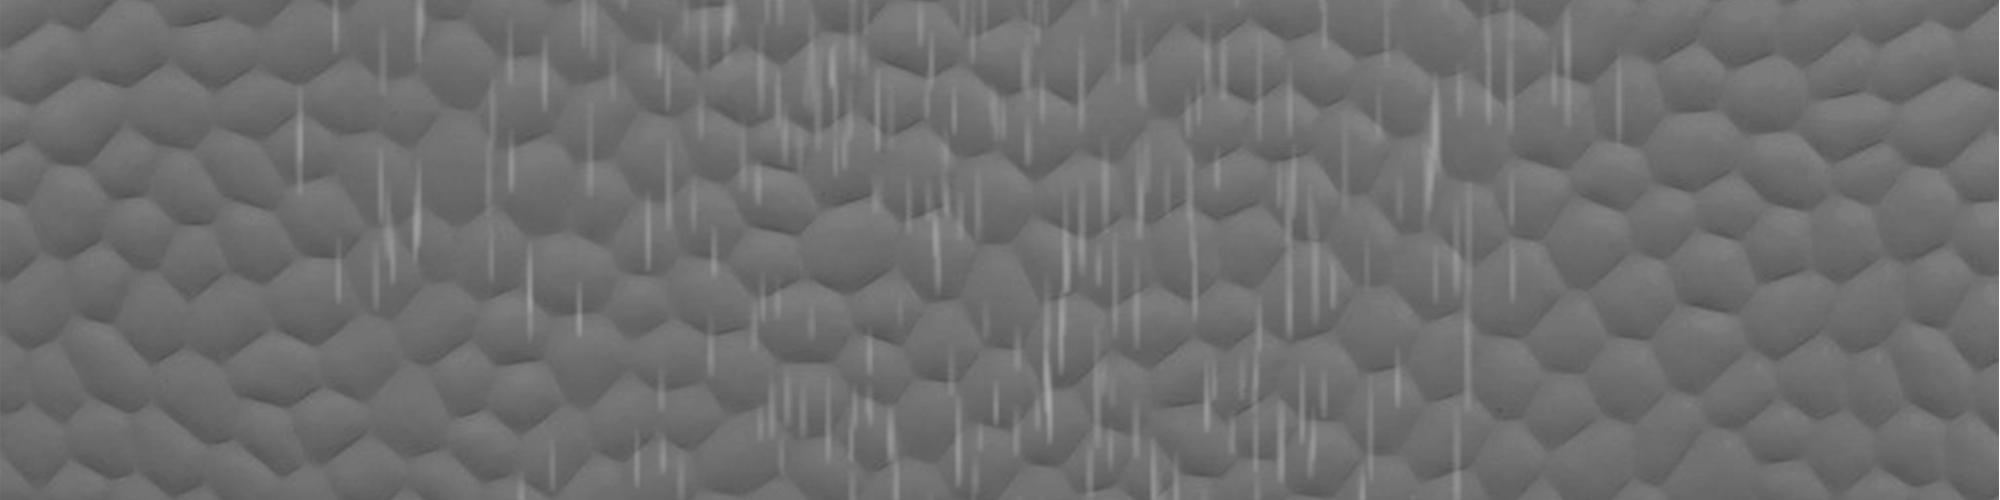Streaks: (1435, 203, 1483, 496), (925, 131, 983, 300), (1180, 148, 1230, 323), (1418, 56, 1469, 224), (843, 378, 911, 499), (742, 367, 814, 480), (1276, 364, 1334, 495), (1179, 13, 1232, 143), (1089, 131, 1122, 339), (1017, 4, 1057, 172), (1276, 54, 1298, 351), (1476, 1, 1526, 133), (1108, 1, 1159, 128), (1054, 182, 1080, 407), (1088, 343, 1126, 500), (369, 147, 401, 320), (1126, 404, 1182, 500), (478, 70, 503, 290), (1246, 292, 1272, 500), (1198, 364, 1250, 460), (1542, 6, 1582, 131), (821, 43, 858, 176), (1349, 367, 1385, 500), (281, 83, 319, 207), (943, 328, 969, 494), (1026, 320, 1057, 459), (770, 61, 806, 179), (747, 264, 791, 355), (1499, 171, 1527, 310), (802, 0, 827, 156), (1038, 251, 1055, 467), (1304, 163, 1323, 347), (918, 4, 945, 131), (399, 154, 429, 267), (1332, 120, 1358, 226), (635, 179, 661, 290), (366, 20, 393, 125), (329, 223, 357, 321), (954, 4, 994, 71), (735, 119, 767, 202), (1128, 250, 1151, 365), (1318, 247, 1349, 329), (653, 136, 677, 242), (1066, 170, 1091, 276), (653, 23, 679, 122), (579, 91, 601, 203), (1069, 33, 1094, 128), (872, 46, 895, 151), (1608, 55, 1634, 147), (534, 27, 557, 128), (815, 372, 835, 485), (1131, 135, 1152, 245), (401, 4, 434, 66), (707, 216, 733, 291), (747, 20, 768, 119), (520, 239, 538, 349), (716, 4, 744, 74), (982, 87, 1014, 148), (1375, 6, 1399, 83), (574, 270, 596, 355), (497, 13, 522, 87), (622, 422, 647, 495), (574, 1, 602, 64), (1385, 159, 1409, 231), (602, 36, 630, 97), (1388, 339, 1411, 413), (533, 443, 562, 499), (849, 3, 874, 70), (865, 161, 892, 221), (858, 316, 883, 381), (878, 292, 909, 341), (1255, 27, 1267, 159), (1157, 159, 1180, 223), (694, 5, 714, 77), (702, 306, 722, 378), (654, 357, 677, 420), (973, 408, 989, 499), (1360, 239, 1381, 301), (682, 173, 703, 240), (693, 87, 716, 144), (1006, 323, 1028, 383), (1010, 392, 1026, 474), (505, 125, 520, 207), (1316, 0, 1335, 62), (671, 443, 693, 497), (675, 0, 695, 57), (962, 310, 997, 341), (761, 1, 790, 40), (509, 455, 532, 499), (899, 175, 915, 239), (654, 423, 670, 483), (1371, 88, 1389, 138), (990, 371, 1006, 422), (325, 11, 341, 57), (946, 94, 963, 135), (806, 293, 816, 343)
